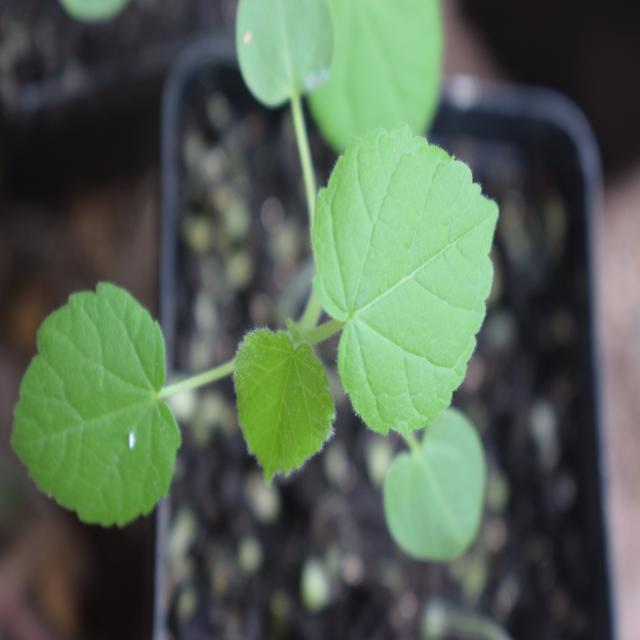abutilon theophrasti: (6, 87, 542, 581)
